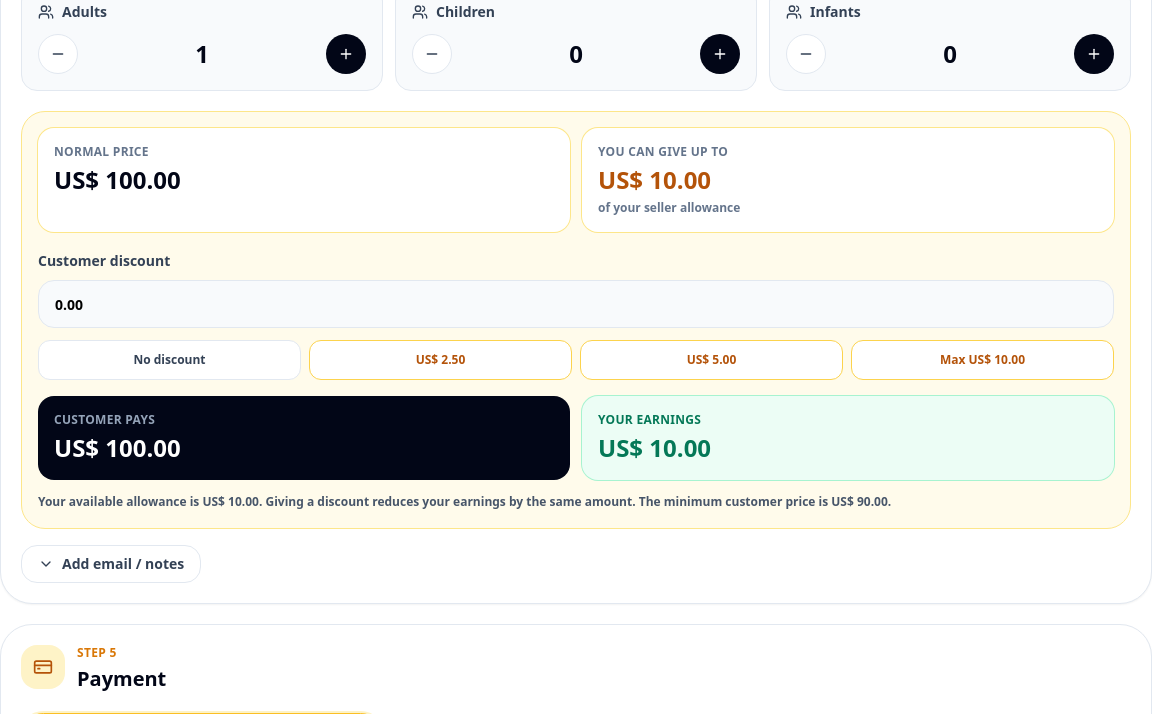
TicketingSellerNewBookingPage simple seller discount UI › half-allowance quick button makes customer pay 95 and seller earn 5
The image size is (1152, 714).
(page scrolled)
Expected: the text "Normal price" is shown, x1=54 y1=143 x2=149 y2=160
Click the button "US$ 5.00".
click(712, 360)  # box x1=580 y1=340 x2=843 y2=380
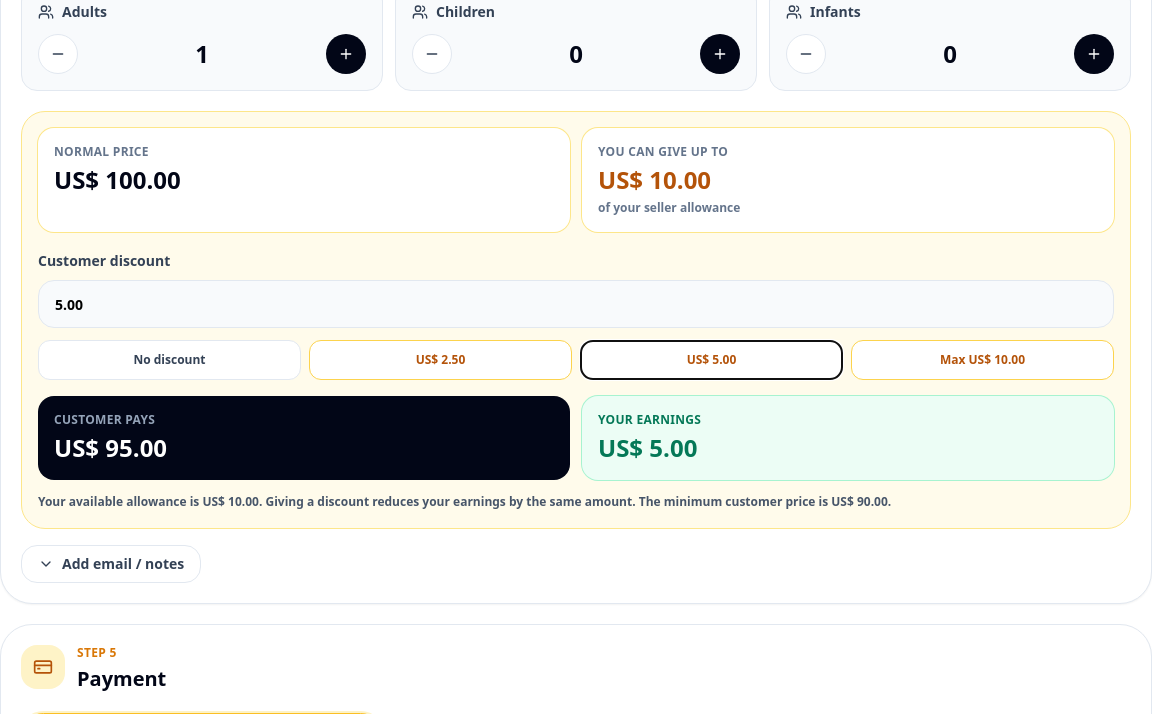
Expected: the field labelled "Customer discount" holds "5.00", x1=38 y1=280 x2=1114 y2=328
Expected: the text "US$ 95.00" is shown, x1=54 y1=431 x2=167 y2=464
